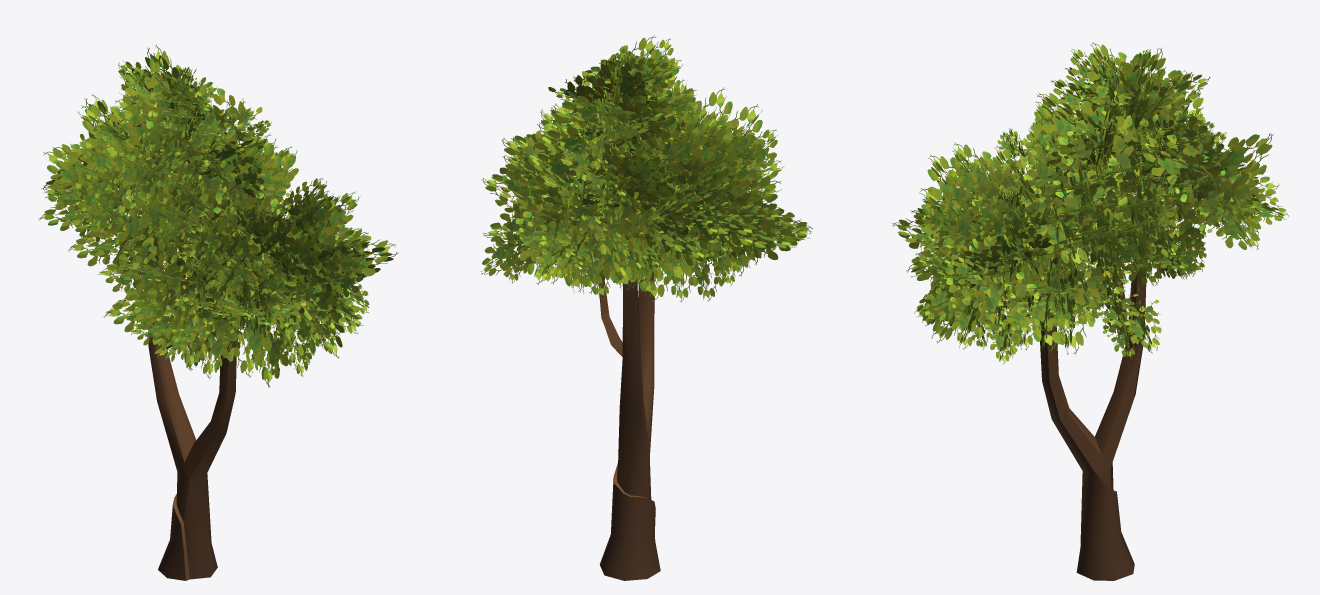
Rendered from Tree_1C.fbx.
3 views of the same model, side by side, from view 1: azimuth 30°, elevation 25°; view 2: azimuth 150°, elevation 25°; view 3: azimuth 270°, elevation 25° (orthographic). The views are drawn at different scales.
Parts seen in each view (by area): view 1: Tree_1C; view 2: Tree_1C; view 3: Tree_1C.
Part boxes in pixels (x1=…): Tree_1C: x1=39, y1=44, x2=398, y2=580; Tree_1C: x1=480, y1=35, x2=812, y2=580; Tree_1C: x1=892, y1=42, x2=1288, y2=580.
Size of the model in its own units: 537 by 887 by 648.
